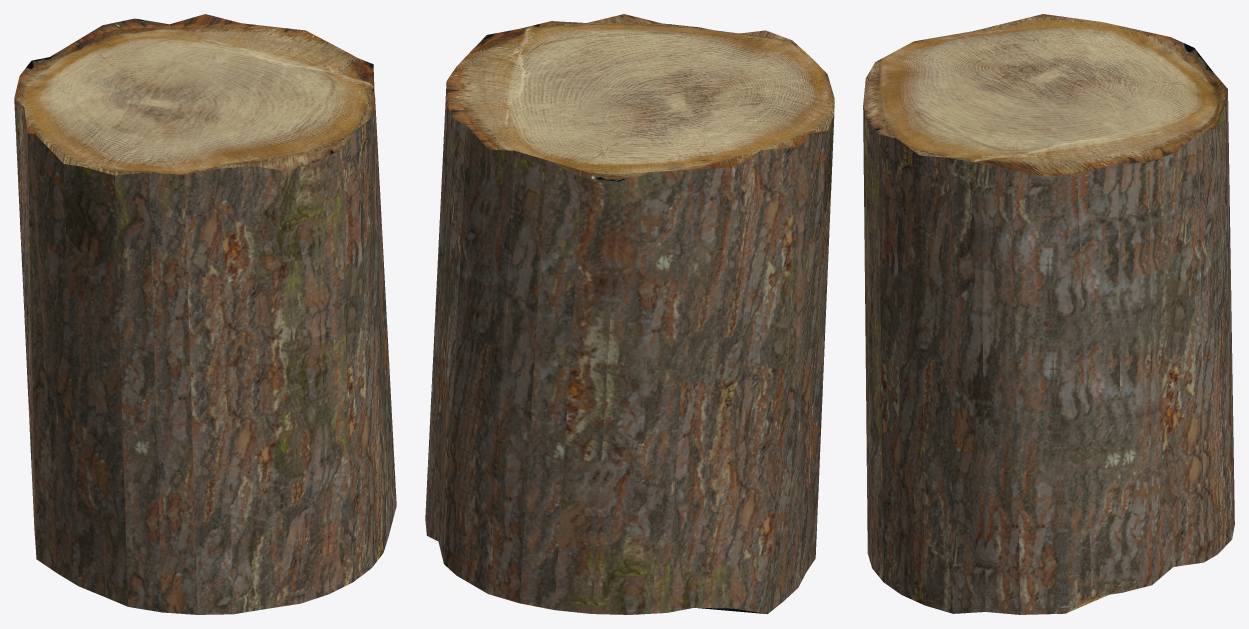
The model's file is log_small.glb.
3 renders of one model, left to right at view 1: azimuth 30°, elevation 25°; view 2: azimuth 150°, elevation 25°; view 3: azimuth 270°, elevation 25°, orthographic. The views are drawn at different scales.
Parts seen in each view (by area): view 1: Cylinder.010; view 2: Cylinder.010; view 3: Cylinder.010.
Boxes of the visible parts, box(x1,y1,x2,y2) form: Cylinder.010: box(14, 14, 396, 614); Cylinder.010: box(425, 14, 834, 614); Cylinder.010: box(863, 14, 1234, 614).
Size of the model in its own units: 0.5103 by 0.6474 by 0.4785.
2 materials, 2 textured.
